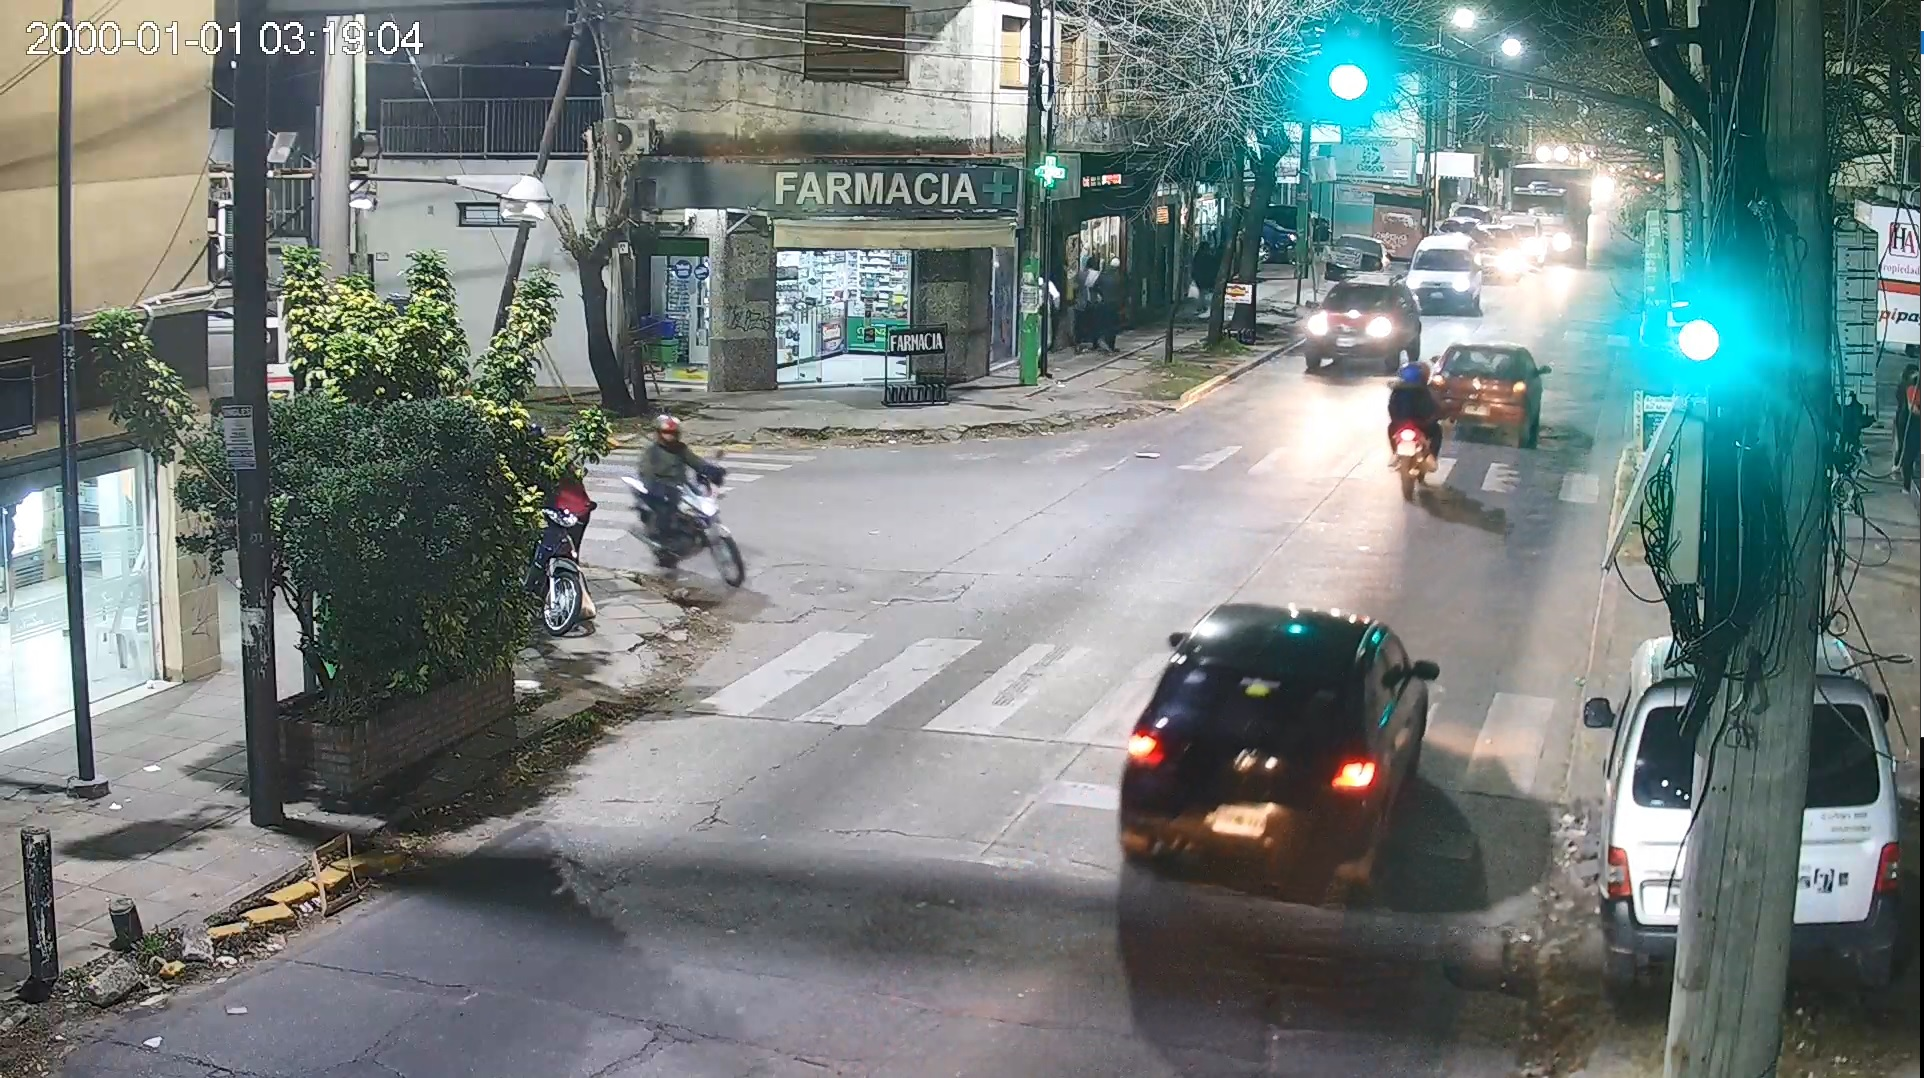car: (1574, 620, 1924, 1019), (1122, 579, 1450, 905), (1423, 330, 1557, 448), (1300, 262, 1432, 373)
motorcycle: (625, 395, 766, 601), (1358, 355, 1454, 495)
